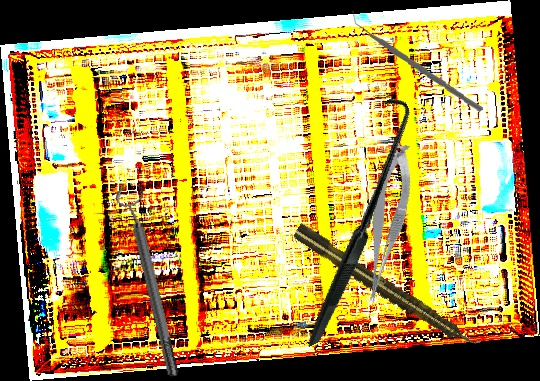Chopper: (347, 8, 488, 113)
Fixation Ring: (113, 183, 188, 380)
Handpiece: (291, 221, 483, 356)
Hook Surgical: (223, 93, 486, 348)
Micro Scissor: (346, 140, 425, 306)
